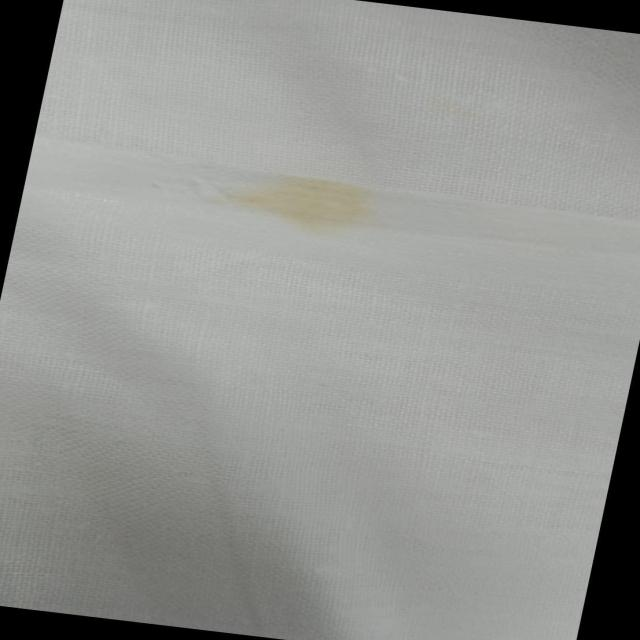stain: (190, 152, 392, 246)
